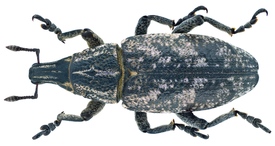dolgonosik: (7, 10, 273, 136)
